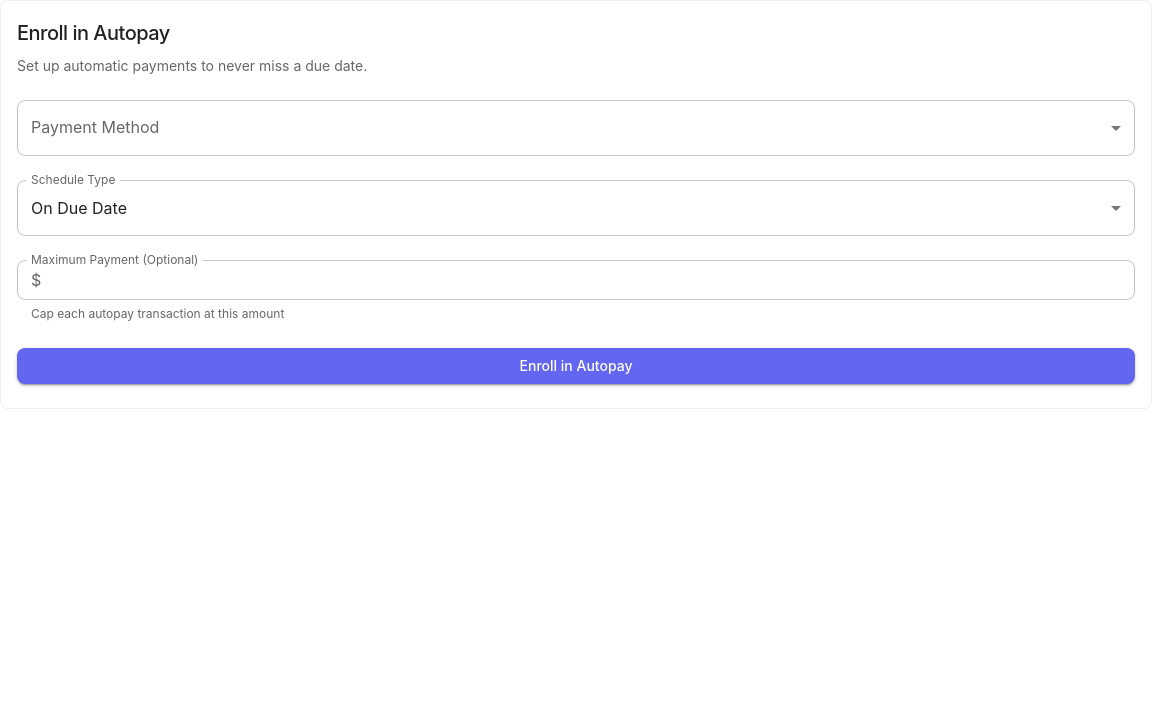
Test case: AutopayEnrollment › schedule type selection › shows threshold field when threshold is selected
Step 1. Click the dropdown named "schedule type" → {"x": 79, "y": 208}, box left=31, top=198, right=127, bottom=218
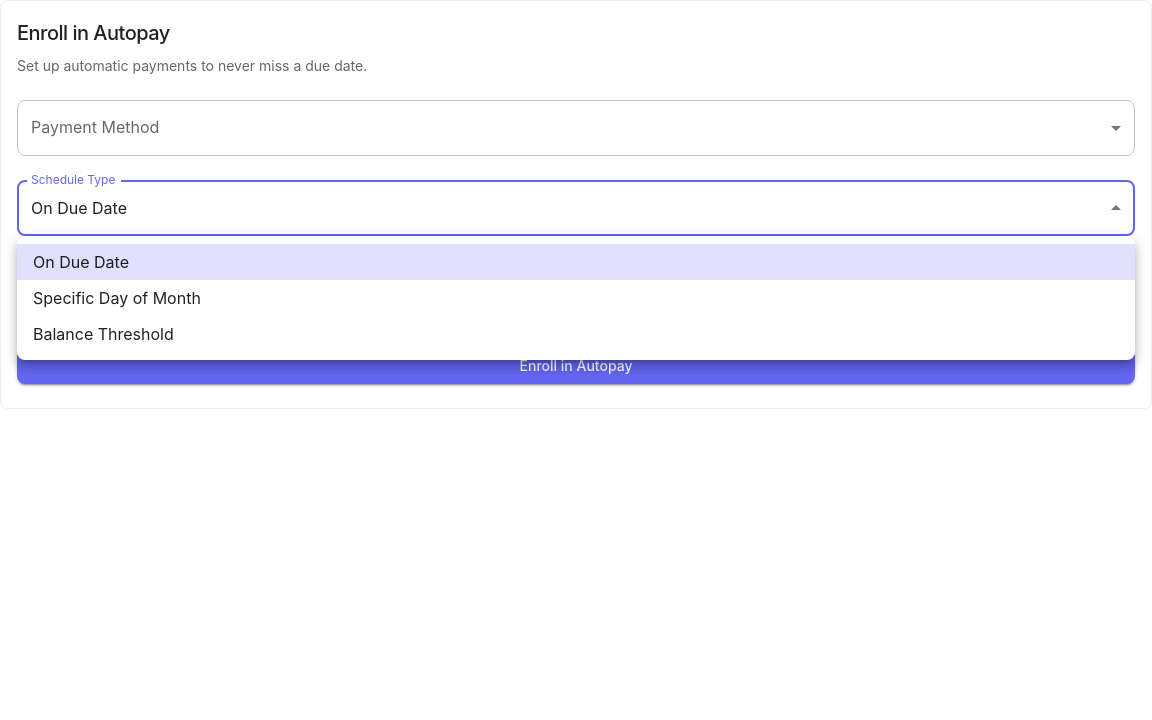
Step 2. Click the option "Balance Threshold" → {"x": 103, "y": 334}, box left=33, top=324, right=174, bottom=344
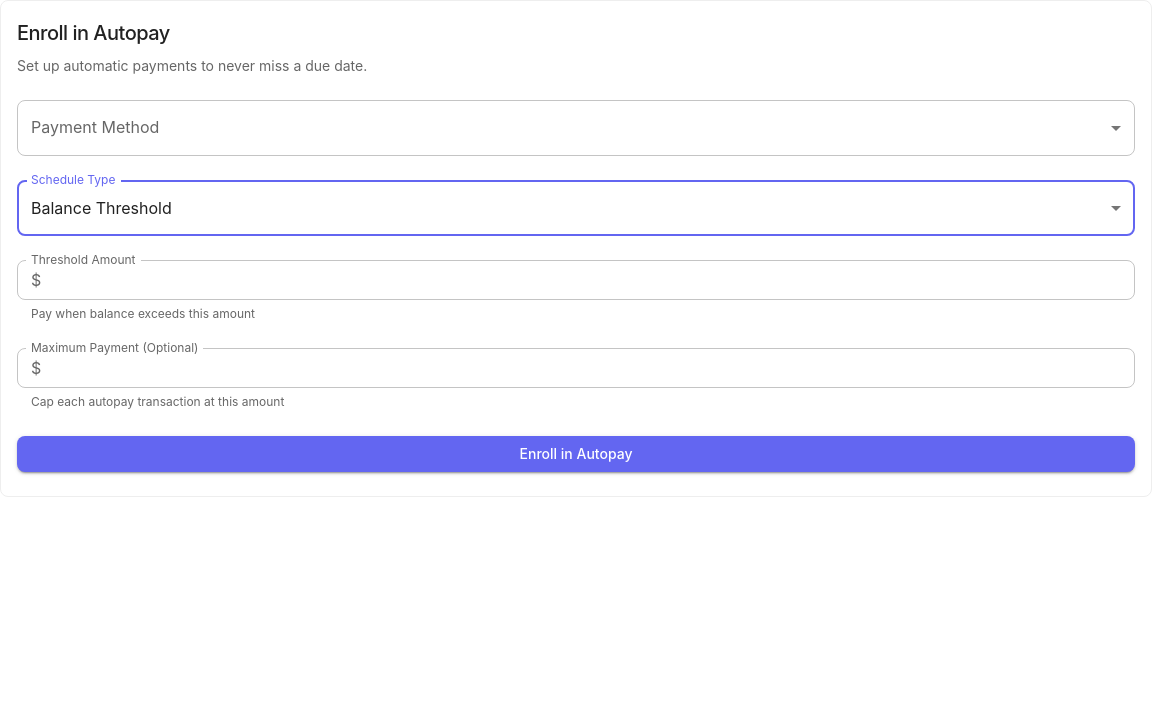
Expected: the number field labelled "Threshold Amount" is shown, left=49, top=260, right=1135, bottom=300
